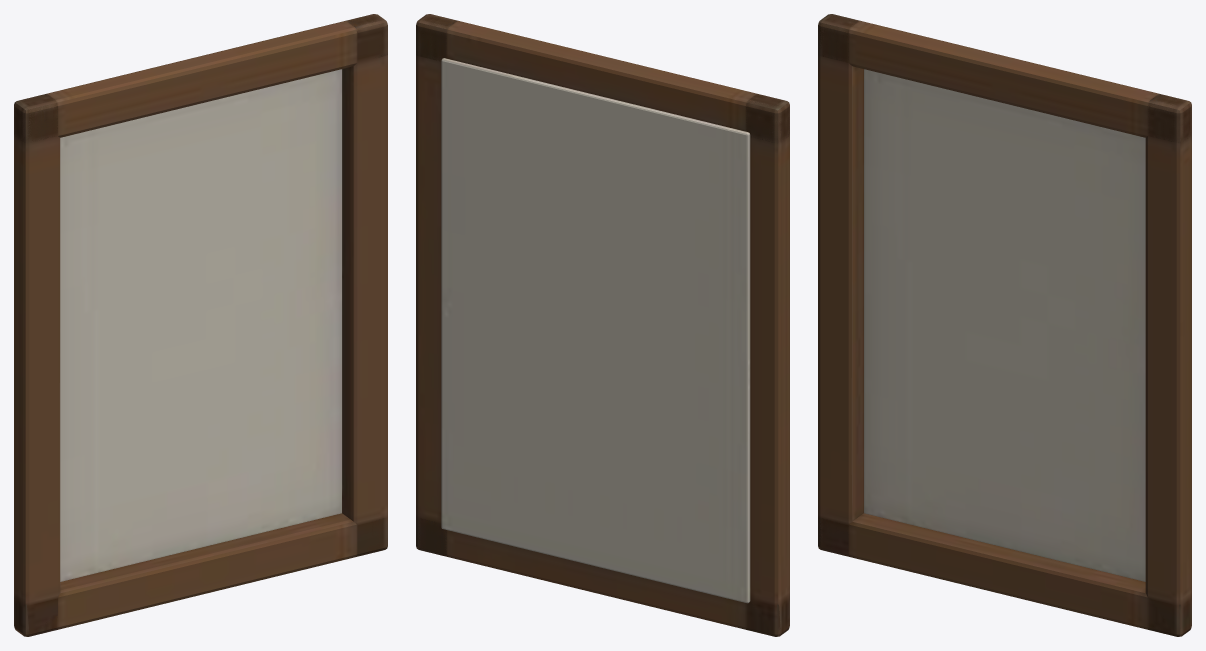
File: dressing-frame-tall.glb
3 renders of one model, left to right at view 1: azimuth 30°, elevation 25°; view 2: azimuth 150°, elevation 25°; view 3: azimuth 330°, elevation 25°, orthographic.
Parts seen in each view (by area): view 1: case-baked; view 2: case-baked; view 3: case-baked.
Boxes of the visible parts, x1,y1,x2,y2 form: case-baked: (14,14,387,636); case-baked: (416,14,789,636); case-baked: (818,14,1191,636).
Bounding box in the file's own units: 0.4464 × 0.62 × 0.032.
Materials: 1 (1 with a texture image).
